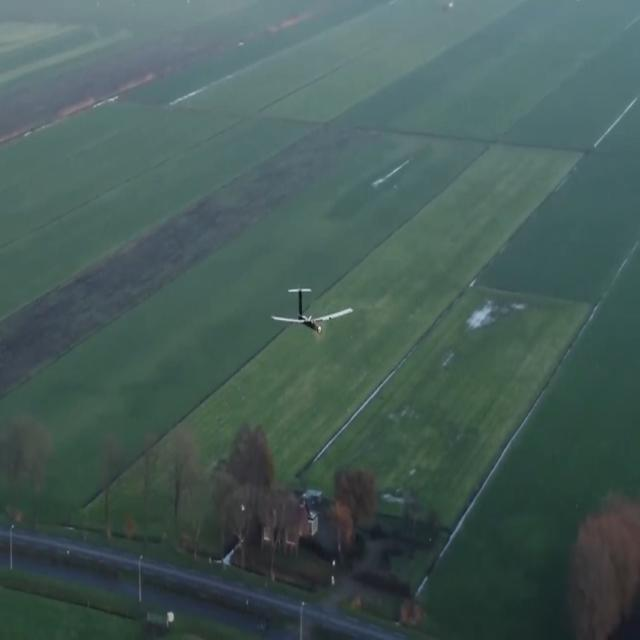iha: (304, 282, 321, 342)
